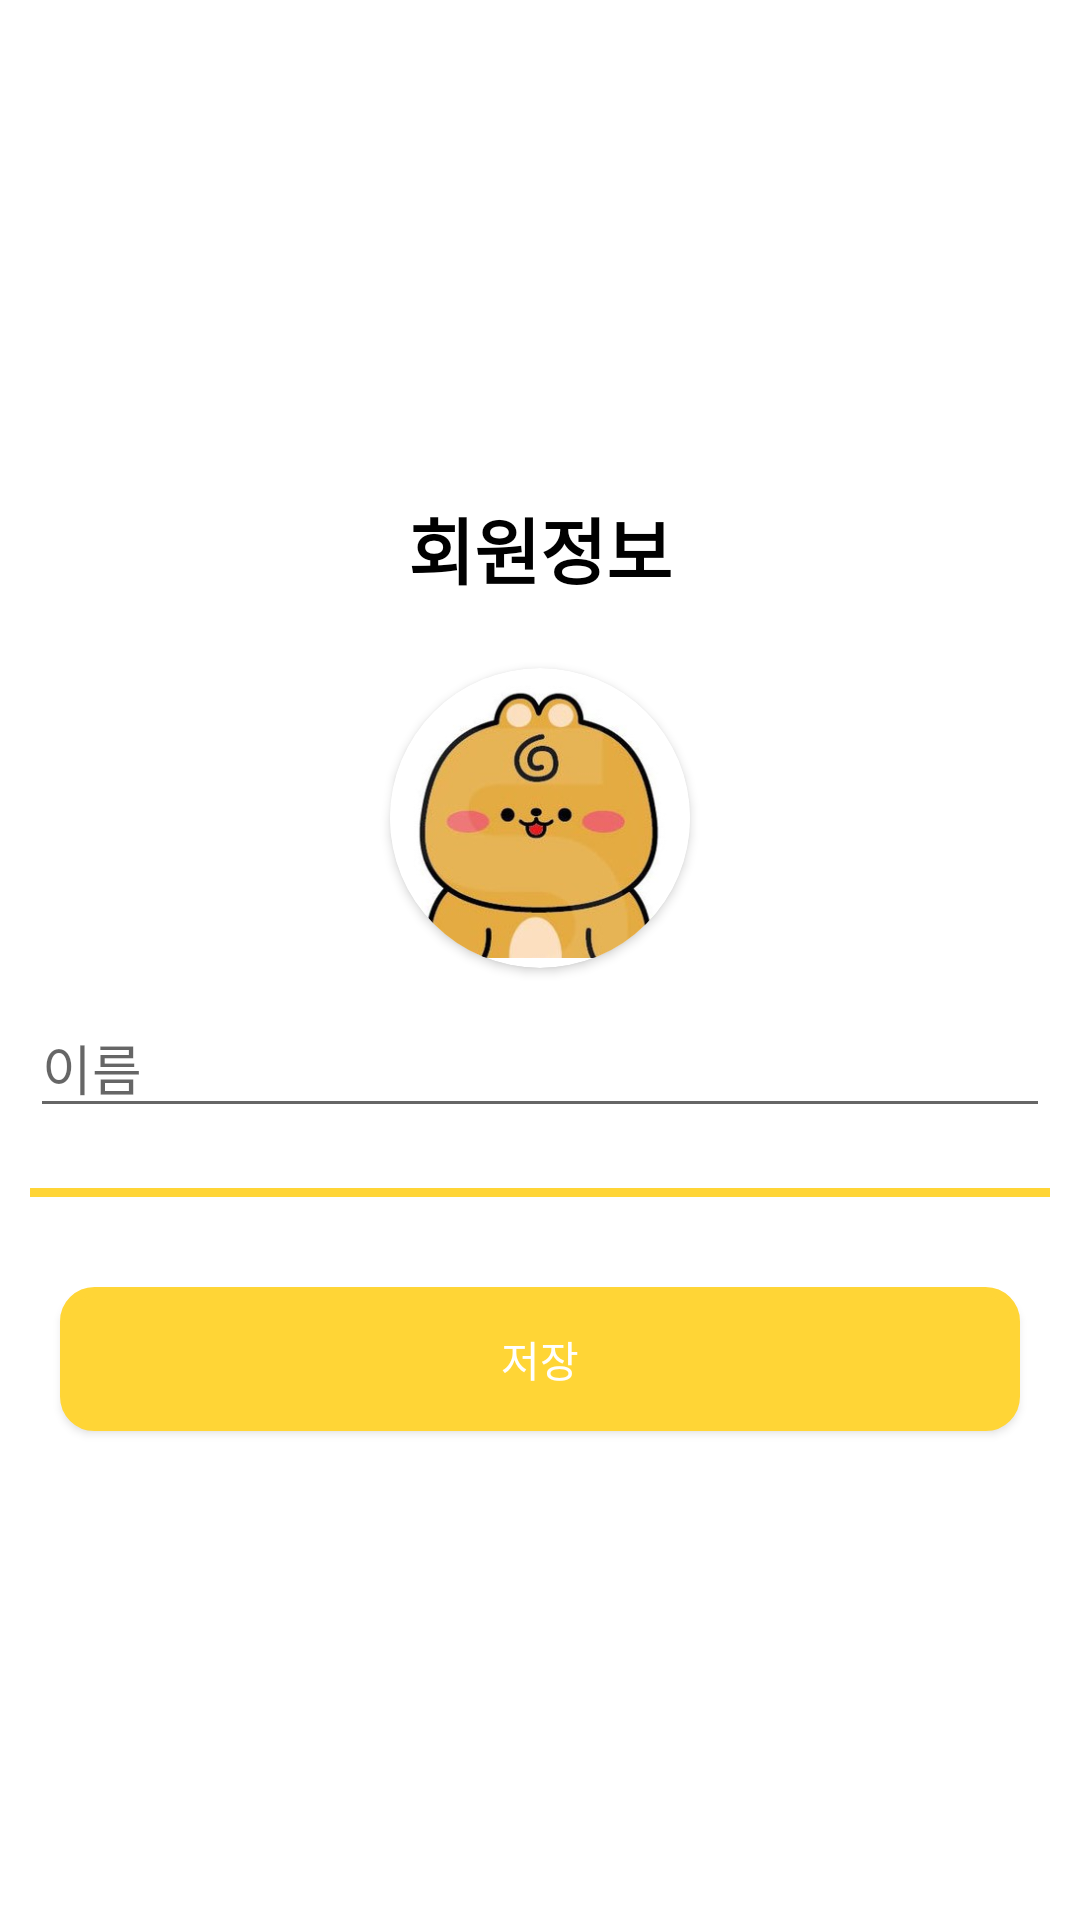

Where icons sit on this 1080×1920 app screen, as {"x1": x1, "y1": y1, "x2": x2, "y2": y2}:
profile: {"x1": 396, "y1": 692, "x2": 684, "y2": 968}
